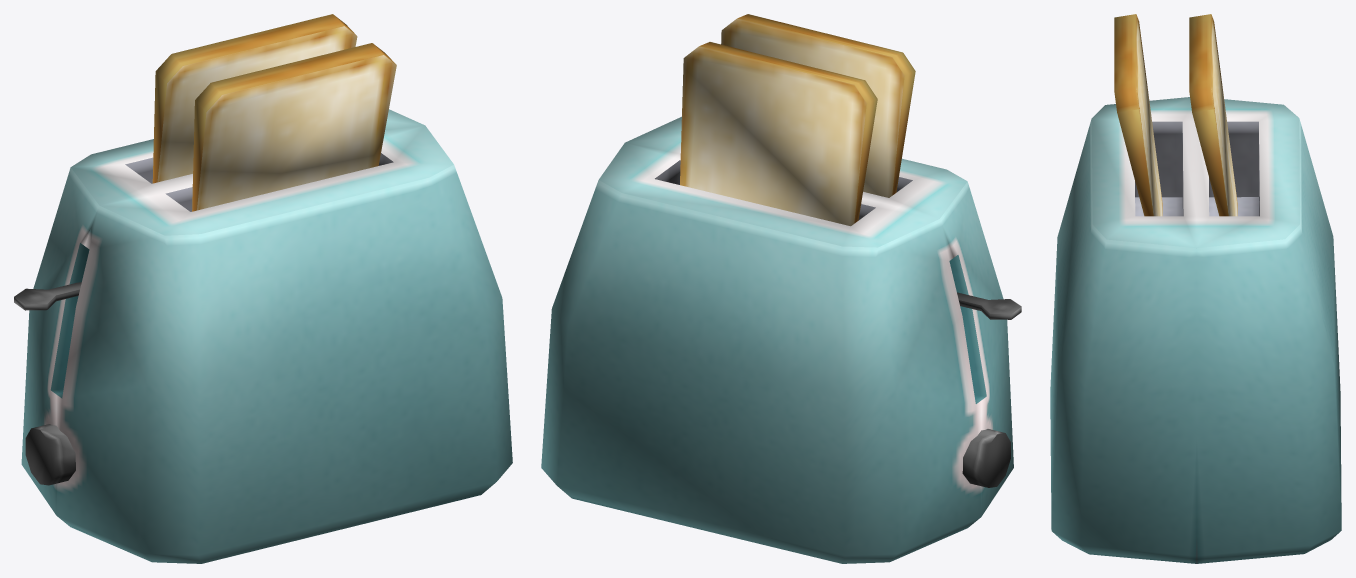
Rendered from ShenMiRenJia_01_mianbaoji_01.FBX.
3 renders of one model, left to right at view 1: azimuth 30°, elevation 25°; view 2: azimuth 150°, elevation 25°; view 3: azimuth 270°, elevation 25°, orthographic. The views are drawn at different scales.
Visible parts, largest first — view 1: ShenMiRenJia_01_mianbaoji_01; view 2: ShenMiRenJia_01_mianbaoji_01; view 3: ShenMiRenJia_01_mianbaoji_01.
Part boxes in pixels (<box>): ShenMiRenJia_01_mianbaoji_01: <box>14,14,512,563</box>; ShenMiRenJia_01_mianbaoji_01: <box>541,14,1021,563</box>; ShenMiRenJia_01_mianbaoji_01: <box>1050,14,1341,563</box>.
Size of the model in its own units: 148 by 137 by 86.16.
